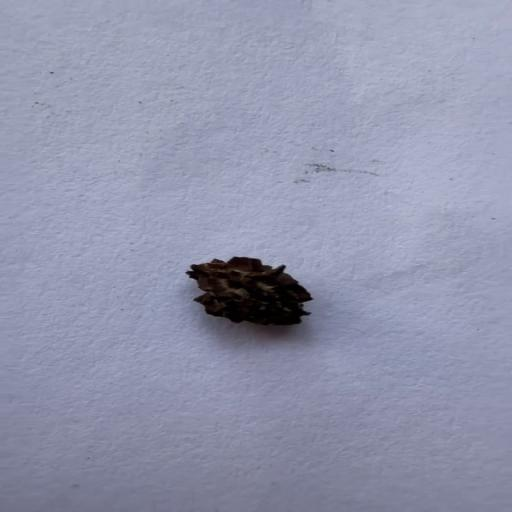papaya_seed: (181, 245, 334, 338)
